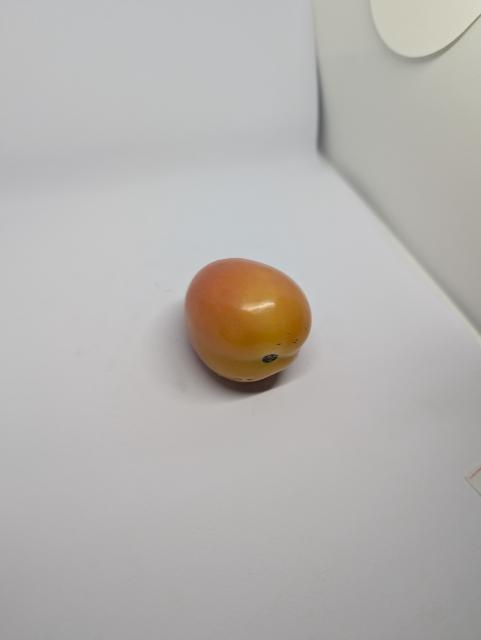turning: (173, 249, 319, 394)
